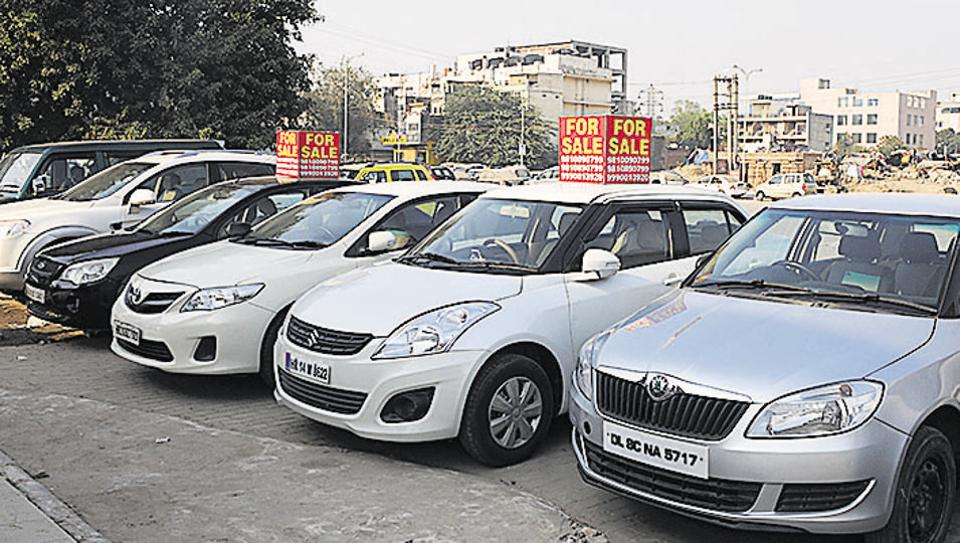number_plate: (602, 418, 714, 484)
